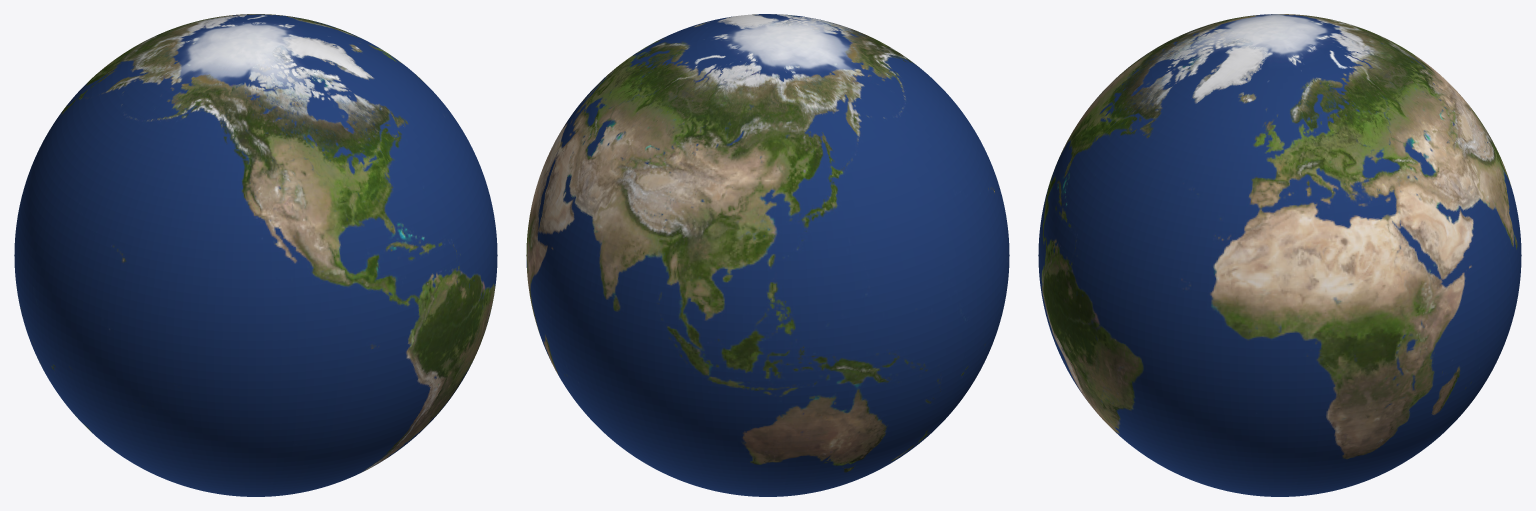
File: Gaia.gltf
The picture shows the model from 3 angles, left to right: view 1: azimuth 30°, elevation 25°; view 2: azimuth 150°, elevation 25°; view 3: azimuth 270°, elevation 25°; orthographic projection.
Visible parts, largest first — view 1: Sphere; view 2: Sphere; view 3: Sphere.
Boxes of the visible parts, x1,y1,x2,y2 form: Sphere: [14, 14, 497, 496]; Sphere: [526, 14, 1009, 496]; Sphere: [1038, 14, 1521, 496].
Bounding box in the file's own units: 2 × 2 × 2.
1 material, 1 textured.
